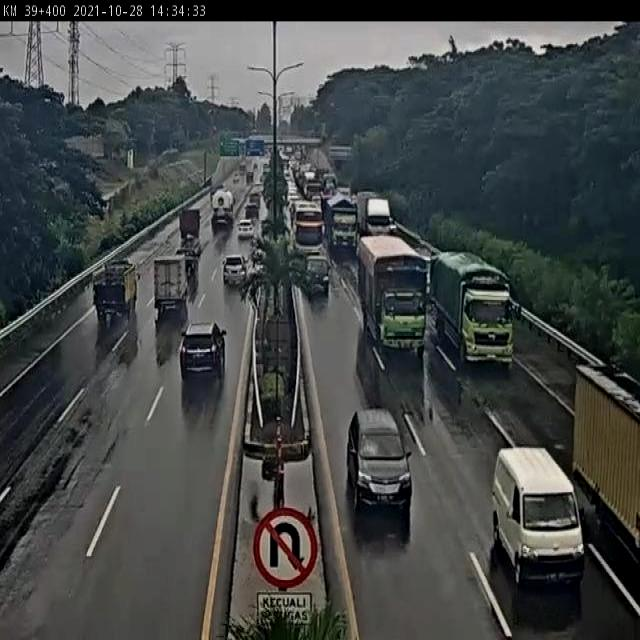Bus: (288, 200, 325, 258)
Car: (347, 408, 413, 511), (179, 322, 226, 382), (303, 253, 331, 298), (222, 253, 248, 286), (177, 247, 200, 273), (237, 218, 255, 240), (244, 202, 259, 220), (249, 190, 262, 202)
Truck: (574, 360, 640, 555), (428, 251, 523, 369), (355, 236, 428, 360), (90, 259, 140, 319), (150, 252, 190, 315), (323, 190, 360, 254), (358, 191, 394, 237), (210, 187, 237, 227), (178, 206, 204, 238)
Van: (490, 446, 582, 586)
